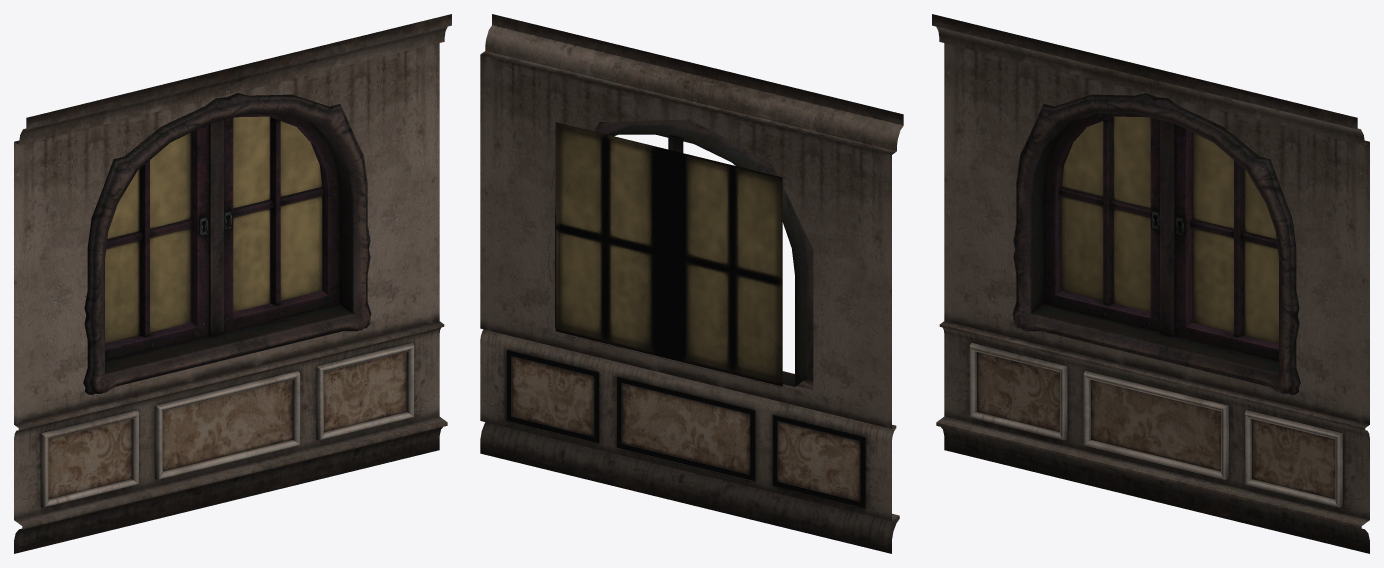
The model's file is 42_window03_yellow.dae.
3 renders of one model, left to right at view 1: azimuth 30°, elevation 25°; view 2: azimuth 150°, elevation 25°; view 3: azimuth 330°, elevation 25°, orthographic. The views are drawn at different scales.
Parts seen in each view (by area): view 1: window03, window03_frame, window03_glass; view 2: window03, window03_glass, window03_frame; view 3: window03, window03_frame, window03_glass.
Part boxes in pixels (box(x1,y1,x2,y2)): window03: box(14, 14, 451, 553); window03_frame: box(83, 93, 371, 394); window03_glass: box(105, 116, 322, 343); window03: box(480, 14, 903, 553); window03_glass: box(555, 122, 782, 386); window03_frame: box(547, 109, 824, 399); window03: box(932, 14, 1369, 553); window03_frame: box(1012, 93, 1300, 394); window03_glass: box(1061, 116, 1278, 343).
Bounding box in the file's own units: 4 × 4 × 0.488.
3 materials, 3 textured.
